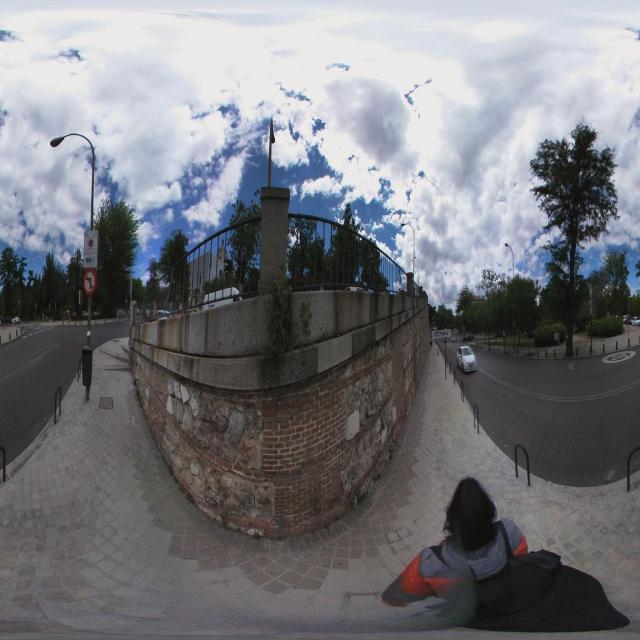forb_stopping: (88, 239, 93, 248)
